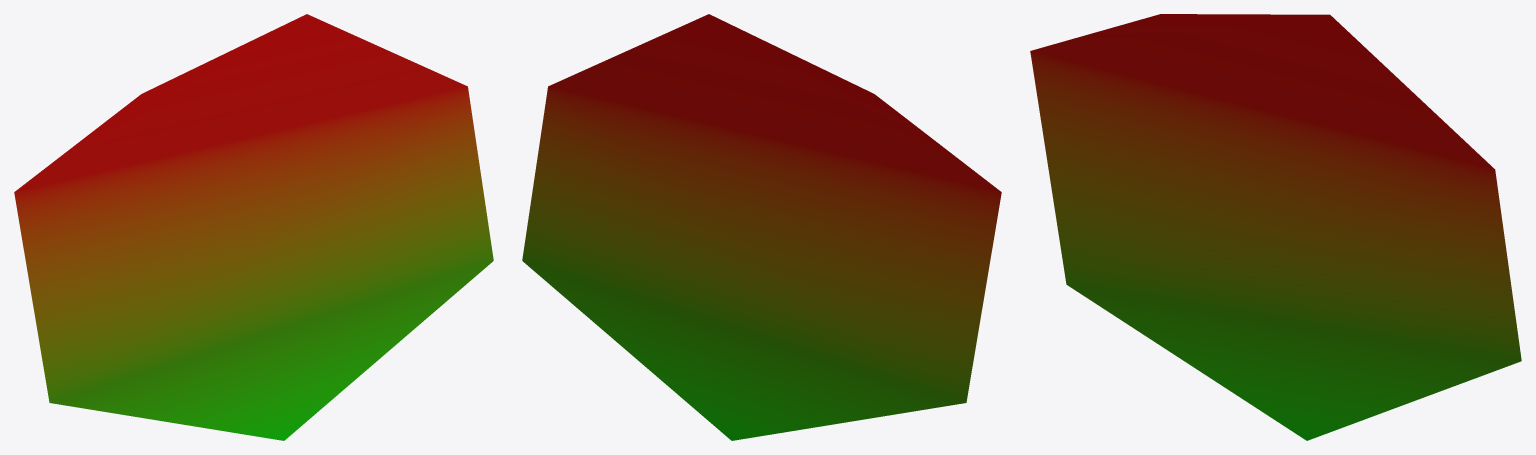
Rendered from Var6_LOD6.fbx.
3 renders of one model, left to right at view 1: azimuth 30°, elevation 25°; view 2: azimuth 150°, elevation 25°; view 3: azimuth 330°, elevation 25°, orthographic. The views are drawn at different scales.
Visible parts, largest first — view 1: _bc7u_Var6_LOD6; view 2: _bc7u_Var6_LOD6; view 3: _bc7u_Var6_LOD6.
Boxes of the visible parts, x1,y1,x2,y2 form: _bc7u_Var6_LOD6: (14, 14, 493, 440); _bc7u_Var6_LOD6: (522, 14, 1001, 440); _bc7u_Var6_LOD6: (1030, 14, 1521, 440).
Bounding box in the file's own units: 91.81 × 77.09 × 5.82e-06.
